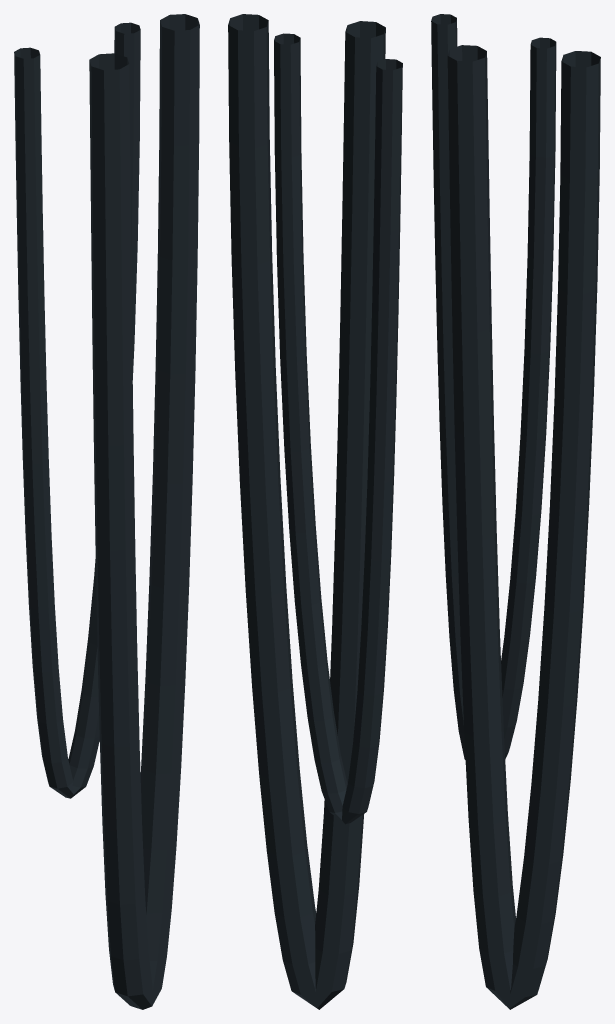
The model's file is cable.fbx.
The picture shows the model from 3 angles, left to right: view 1: azimuth 30°, elevation 25°; view 2: azimuth 150°, elevation 25°; view 3: azimuth 330°, elevation 25°; orthographic projection. The views are drawn at different scales.
Parts seen in each view (by area): view 1: Cable_Long; view 2: Cable_Long; view 3: Cable_Long.
Boxes of the visible parts, <box> form: Cable_Long: <box>14,14,199,1009</box>; Cable_Long: <box>228,14,402,1009</box>; Cable_Long: <box>431,14,600,1009</box>.
Size of the model in its own units: 17.37 by 91.1 by 7.96.
1 material, 1 textured.
